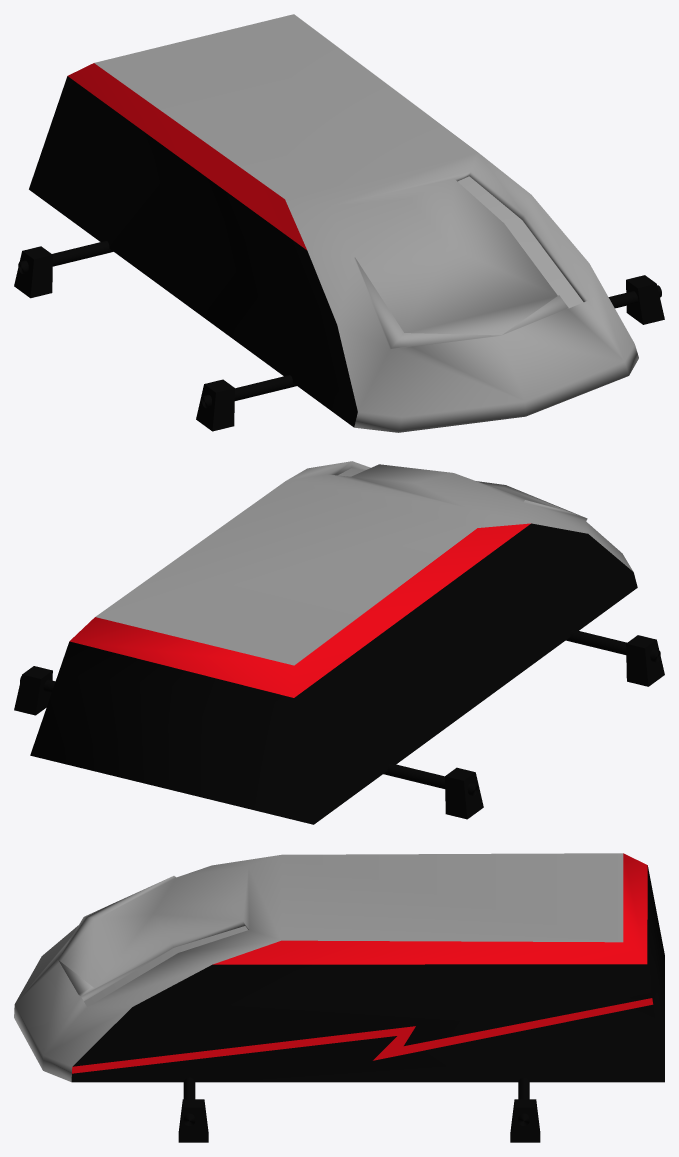
The model's file is simple_generic_roofbox.glb.
3 renders of one model, top to bottom at view 1: azimuth 30°, elevation 25°; view 2: azimuth 150°, elevation 25°; view 3: azimuth 270°, elevation 25°, orthographic. The views are drawn at different scales.
Visible parts, largest first — view 1: Cube.005_5, Cube.009_2, Cube.002_9, Cube.006_4, Cube.007_3, Cube.004_6, Cylinder_1, Cylinder.001_0; view 2: Cube.009_2, Cube.005_5, Cube.002_9, Cube.007_3, Cube.006_4, Cube.003_7, Cylinder.001_0, Cylinder_1; view 3: Cube.009_2, Cube.005_5, Cube.002_9, Cube.001_8, Cube.003_7, Cube.004_6.
Boxes of the visible parts, x1,y1,x2,y2 form: Cube.005_5: (94,14,638,432); Cube.009_2: (29,76,357,427); Cube.002_9: (68,63,306,249); Cube.006_4: (14,246,52,298); Cube.007_3: (196,379,234,431); Cube.004_6: (626,275,664,324); Cylinder_1: (201,285,661,408); Cylinder.001_0: (18,241,113,273); Cube.009_2: (30,523,637,824); Cube.005_5: (95,461,633,665); Cube.002_9: (69,523,530,697); Cube.007_3: (626,635,664,686); Cube.006_4: (445,767,483,819); Cube.003_7: (14,666,52,715); Cylinder.001_0: (20,676,478,796); Cylinder_1: (566,629,660,662); Cube.009_2: (71,865,664,1082); Cube.005_5: (14,853,623,1081); Cube.002_9: (213,853,647,964); Cube.001_8: (72,998,653,1073); Cube.003_7: (510,1099,540,1142); Cube.004_6: (178,1099,208,1142).
Bounding box in the file's own units: 1.75 × 0.5832 × 2.39.
